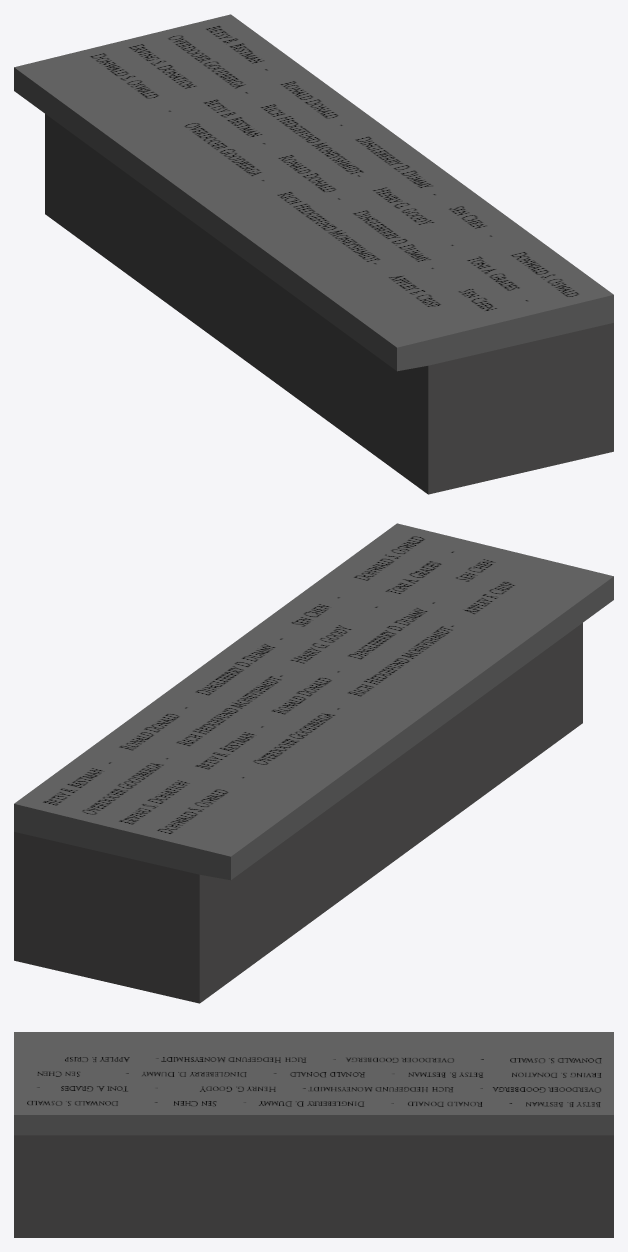
File: odk.fbx
The picture shows the model from 3 angles, top to bottom: view 1: azimuth 30°, elevation 25°; view 2: azimuth 150°, elevation 25°; view 3: azimuth 270°, elevation 25°; orthographic projection. The views are drawn at different scales.
Visible parts, largest first — view 1: Cube; view 2: Cube; view 3: Cube.
Boxes of the visible parts, x1,y1,x2,y2 form: Cube: [14, 14, 613, 494]; Cube: [14, 523, 613, 1003]; Cube: [14, 1032, 613, 1237].
Bounding box in the file's own units: 289 × 200 × 885.
Materials: 1 (1 with a texture image).
